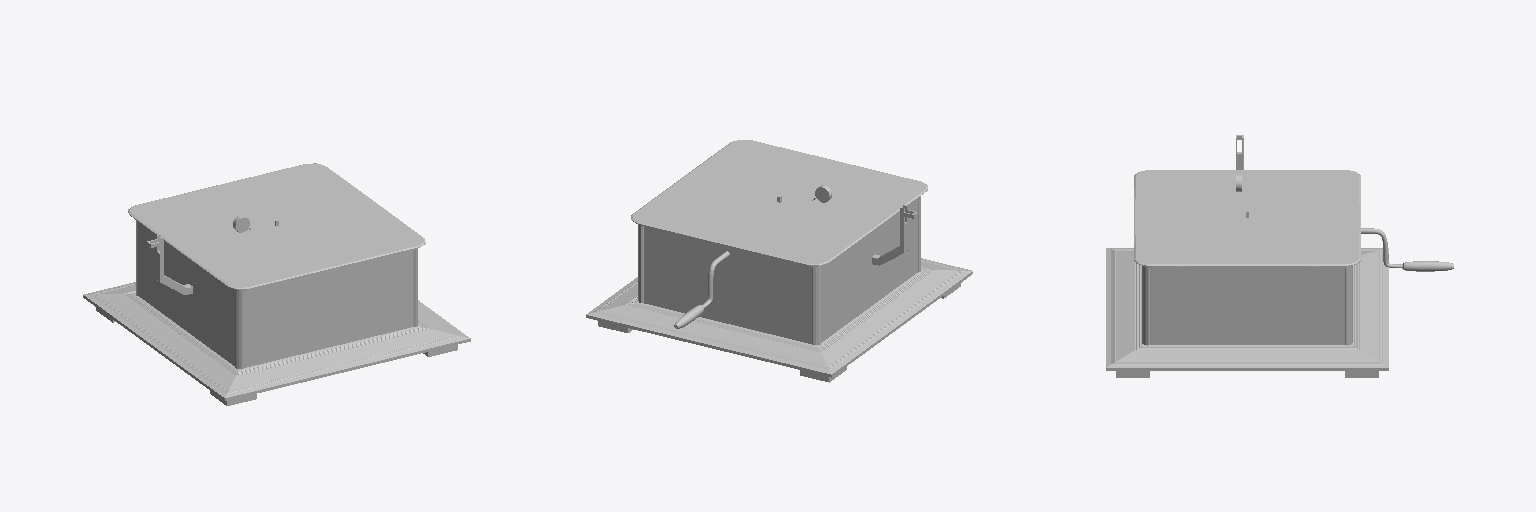
The model's file is gramophone_lecteur.obj.
3 views of the same model, side by side, from view 1: azimuth 30°, elevation 25°; view 2: azimuth 150°, elevation 25°; view 3: azimuth 270°, elevation 25° (orthographic).
Visible parts, largest first — view 1: gramophone_Cube.001, potence_Cube.001; view 2: gramophone_Cube.001, potence_Cube.001, crank_Circle.002; view 3: gramophone_Cube.001, crank_Circle.002.
Part boxes in pixels (left/top/right/bottom): gramophone_Cube.001: left=83, top=163, right=470, bottom=400; potence_Cube.001: left=147, top=234, right=192, bottom=294; gramophone_Cube.001: left=586, top=140, right=972, bottom=377; potence_Cube.001: left=872, top=205, right=917, bottom=265; crank_Circle.002: left=674, top=251, right=729, bottom=328; gramophone_Cube.001: left=1106, top=170, right=1388, bottom=370; crank_Circle.002: left=1361, top=228, right=1453, bottom=271.
Size of the model in its own units: 2.83 by 1.35 by 3.36.